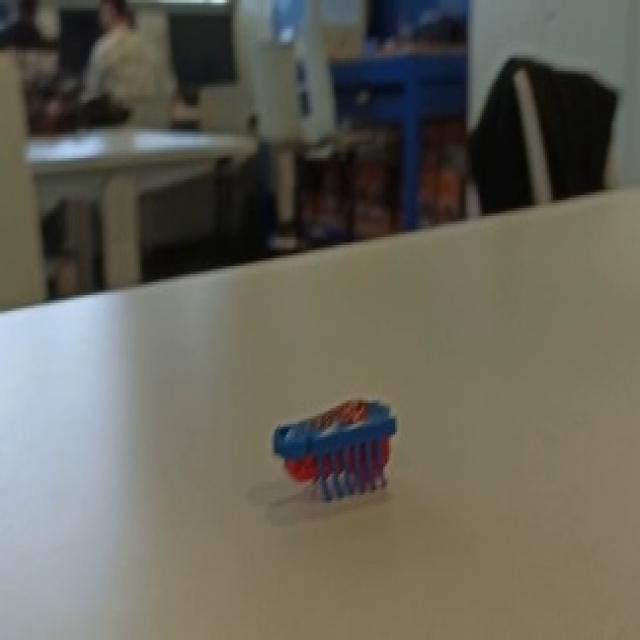1_NanoBug_Azul: (249, 376, 436, 528)
